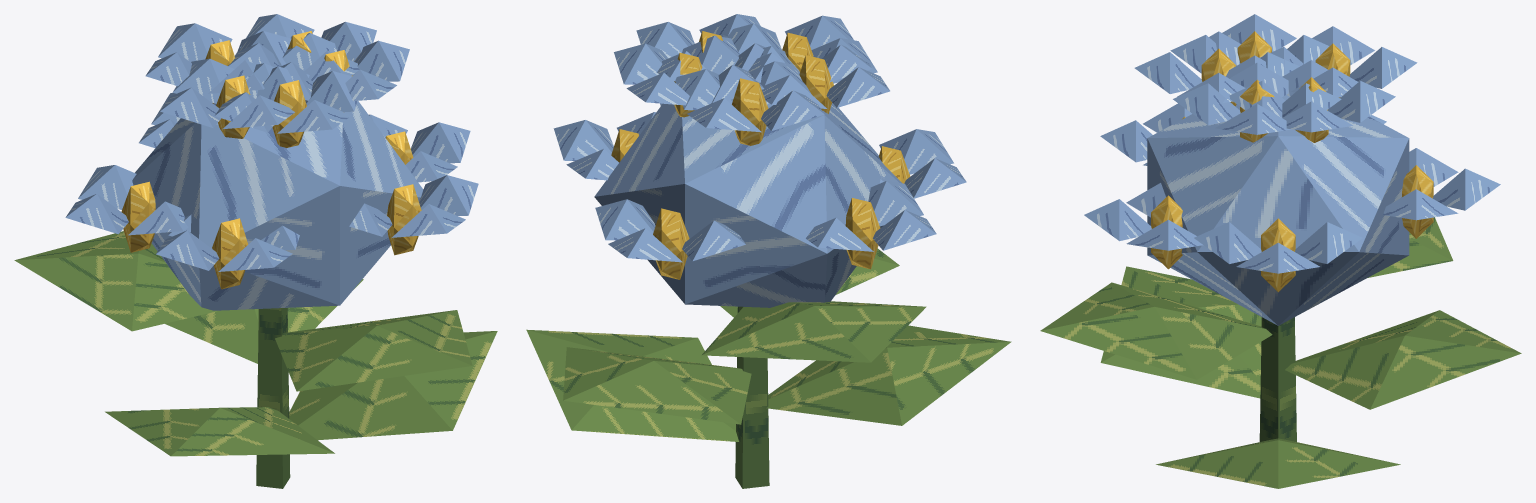
The model's file is flor-hortensia-v01.gltf.
3 renders of one model, left to right at view 1: azimuth 30°, elevation 25°; view 2: azimuth 150°, elevation 25°; view 3: azimuth 270°, elevation 25°, orthographic. The views are drawn at different scales.
Parts seen in each view (by area): view 1: folhas, petalas, flores, miolo, hastes; view 2: folhas, flores, petalas, miolo, hastes; view 3: folhas, flores, petalas, miolo, hastes.
Boxes of the visible parts, <box> form: folhas: <box>14,231,497,456</box>; petalas: <box>65,14,478,271</box>; flores: <box>132,101,423,310</box>; miolo: <box>121,31,421,289</box>; hastes: <box>256,308,290,488</box>; folhas: <box>526,248,1011,441</box>; flores: <box>594,103,901,307</box>; petalas: <box>553,14,966,262</box>; miolo: <box>611,31,910,279</box>; hastes: <box>735,306,769,488</box>; folhas: <box>1040,217,1521,488</box>; flores: <box>1147,95,1409,325</box>; petalas: <box>1084,14,1500,273</box>; miolo: <box>1151,31,1433,292</box>; hastes: <box>1259,317,1296,441</box>.
Size of the model in its own units: 0.6172 by 0.598 by 0.626.
1 material, 1 textured.
